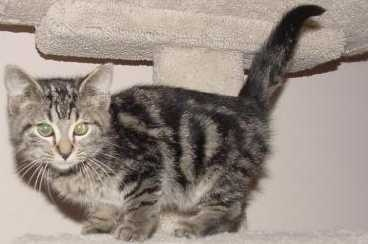Cat: (4, 65, 285, 241)
